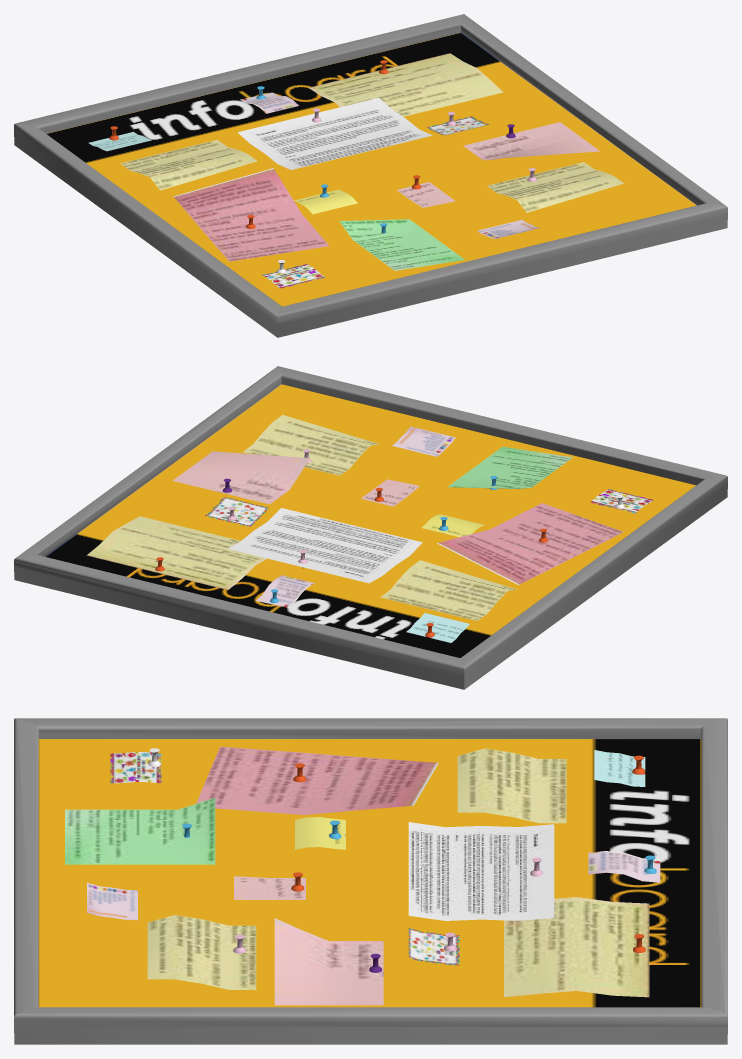
File: Poster04_2.FBX
The picture shows the model from 3 angles, top to bottom: view 1: azimuth 30°, elevation 25°; view 2: azimuth 150°, elevation 25°; view 3: azimuth 270°, elevation 25°; orthographic projection. The views are drawn at different scales.
Parts seen in each view (by area): view 1: Poster04_2; view 2: Poster04_2; view 3: Poster04_2.
Part boxes in pixels (<box>): Poster04_2: <box>14,14,727,337</box>; Poster04_2: <box>14,366,727,689</box>; Poster04_2: <box>14,718,727,1044</box>.
Bounding box in the file's own units: 203 × 13.36 × 206.
